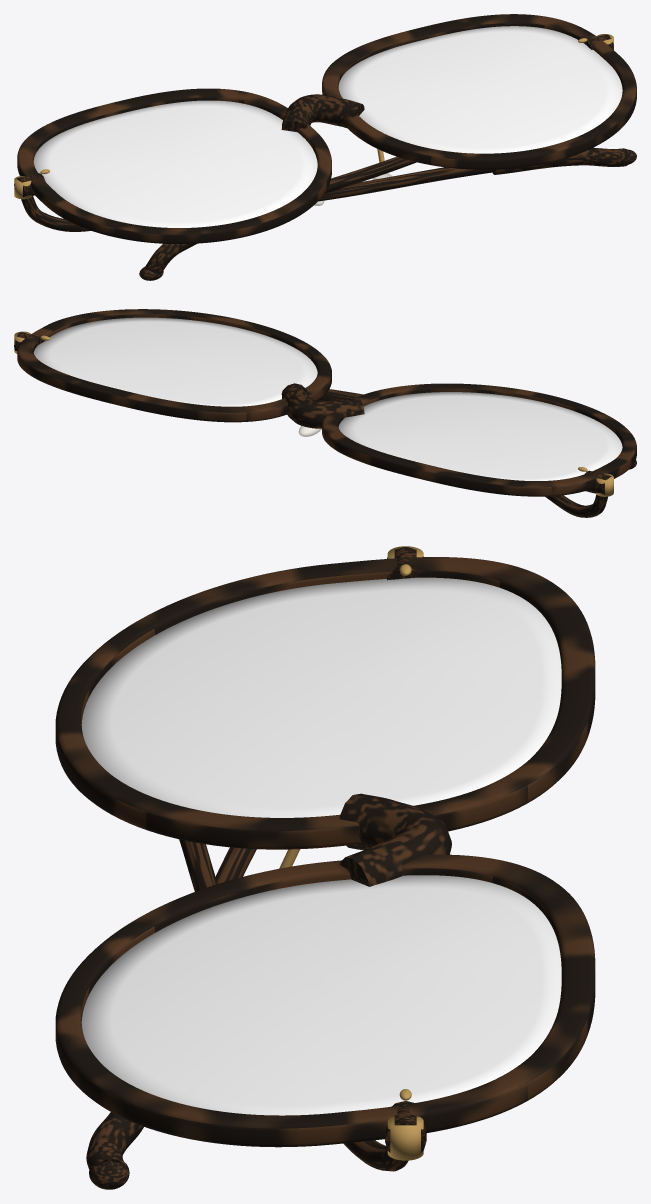
The model's file is glasses.glb.
The picture shows the model from 3 angles, top to bottom: view 1: azimuth 30°, elevation 25°; view 2: azimuth 150°, elevation 25°; view 3: azimuth 270°, elevation 25°; orthographic projection. The views are drawn at different scales.
Parts seen in each view (by area): view 1: EXPORT_Thin clear convex lens, EXPORT_Acetate outer hinge tab, EXPORT_Brass hinge barrel; view 2: EXPORT_Thin clear convex lens, EXPORT_Acetate outer hinge tab, EXPORT_Brass hinge barrel; view 3: EXPORT_Thin clear convex lens, EXPORT_Acetate outer hinge tab, EXPORT_Brass hinge barrel.
Boxes of the visible parts, x1,y1,x2,y2 form: EXPORT_Thin clear convex lens: (33,26,622,227); EXPORT_Acetate outer hinge tab: (14,14,636,280); EXPORT_Brass hinge barrel: (14,34,613,199); EXPORT_Thin clear convex lens: (33,317,622,480); EXPORT_Acetate outer hinge tab: (14,309,636,517); EXPORT_Brass hinge barrel: (14,331,613,496); EXPORT_Thin clear convex lens: (81,577,561,1115); EXPORT_Acetate outer hinge tab: (55,547,595,1189); EXPORT_Brass hinge barrel: (279,546,423,1160).
Bounding box in the file's own units: 2.98 × 0.3336 × 1.17.
Materials: 5 (1 with a texture image).
